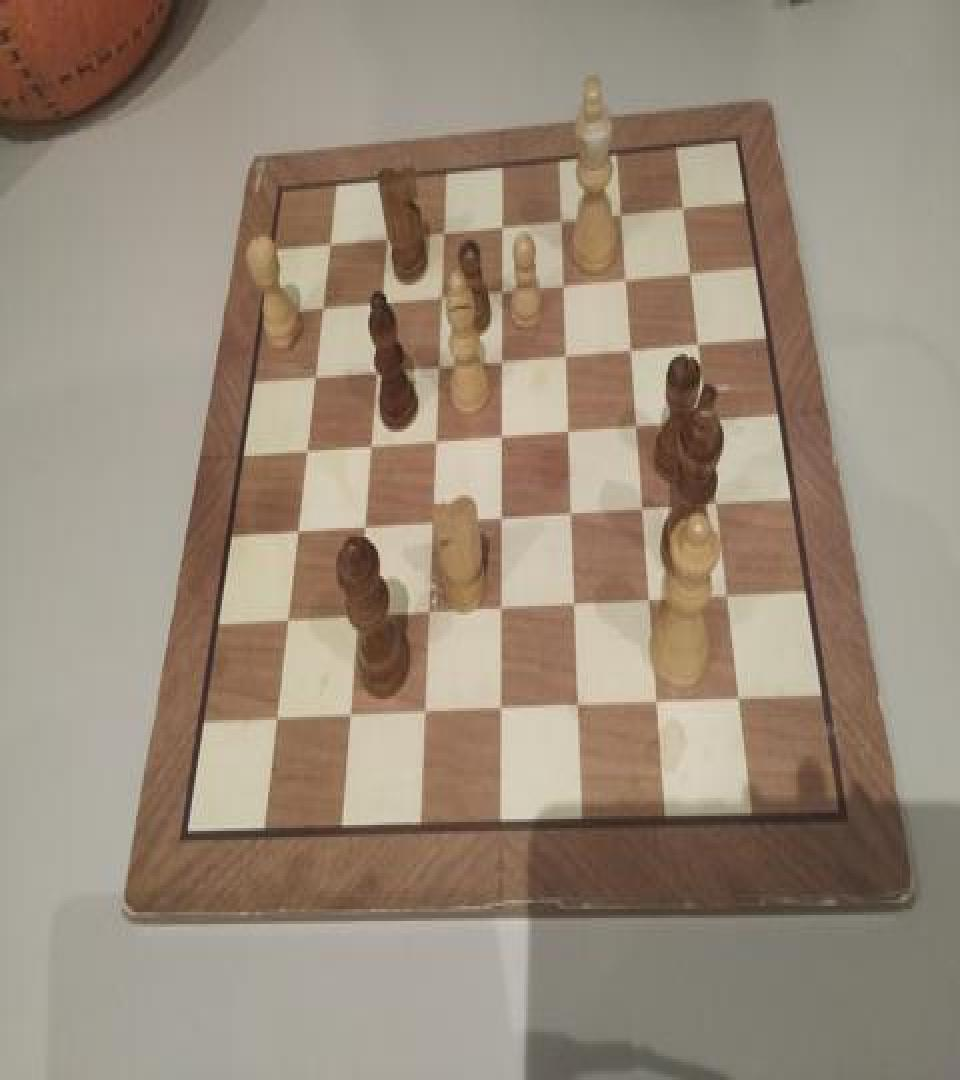xcorner: (375, 223, 395, 254), (613, 199, 633, 230), (265, 708, 285, 738), (415, 700, 435, 730), (571, 694, 591, 724), (651, 692, 671, 722), (733, 687, 753, 717), (276, 609, 296, 639), (347, 604, 367, 634), (419, 600, 439, 630), (492, 597, 512, 627), (567, 592, 587, 622), (643, 588, 663, 618), (721, 584, 741, 614), (286, 519, 306, 549), (353, 514, 373, 544), (422, 510, 442, 540), (492, 506, 512, 536), (564, 501, 584, 531), (636, 495, 656, 525), (710, 490, 730, 520), (295, 436, 315, 466), (360, 432, 380, 462), (425, 428, 445, 458), (492, 422, 512, 452), (560, 417, 580, 447), (629, 411, 649, 441), (700, 406, 720, 436), (303, 362, 323, 392), (365, 357, 385, 387), (428, 351, 448, 381), (492, 346, 512, 376), (557, 340, 577, 370), (623, 334, 643, 364), (690, 328, 710, 358), (311, 292, 331, 322), (371, 288, 391, 318), (431, 282, 451, 312), (492, 276, 512, 306), (555, 270, 575, 300), (618, 264, 638, 294), (682, 258, 702, 288), (318, 230, 338, 260), (433, 218, 453, 248), (492, 212, 512, 242), (552, 206, 572, 236), (674, 194, 694, 224), (339, 704, 359, 733), (492, 698, 512, 727)
